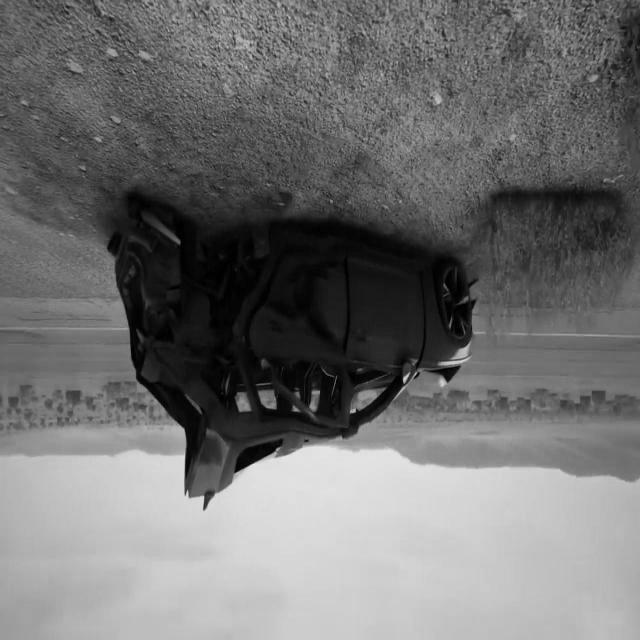severe: (105, 198, 477, 514)
